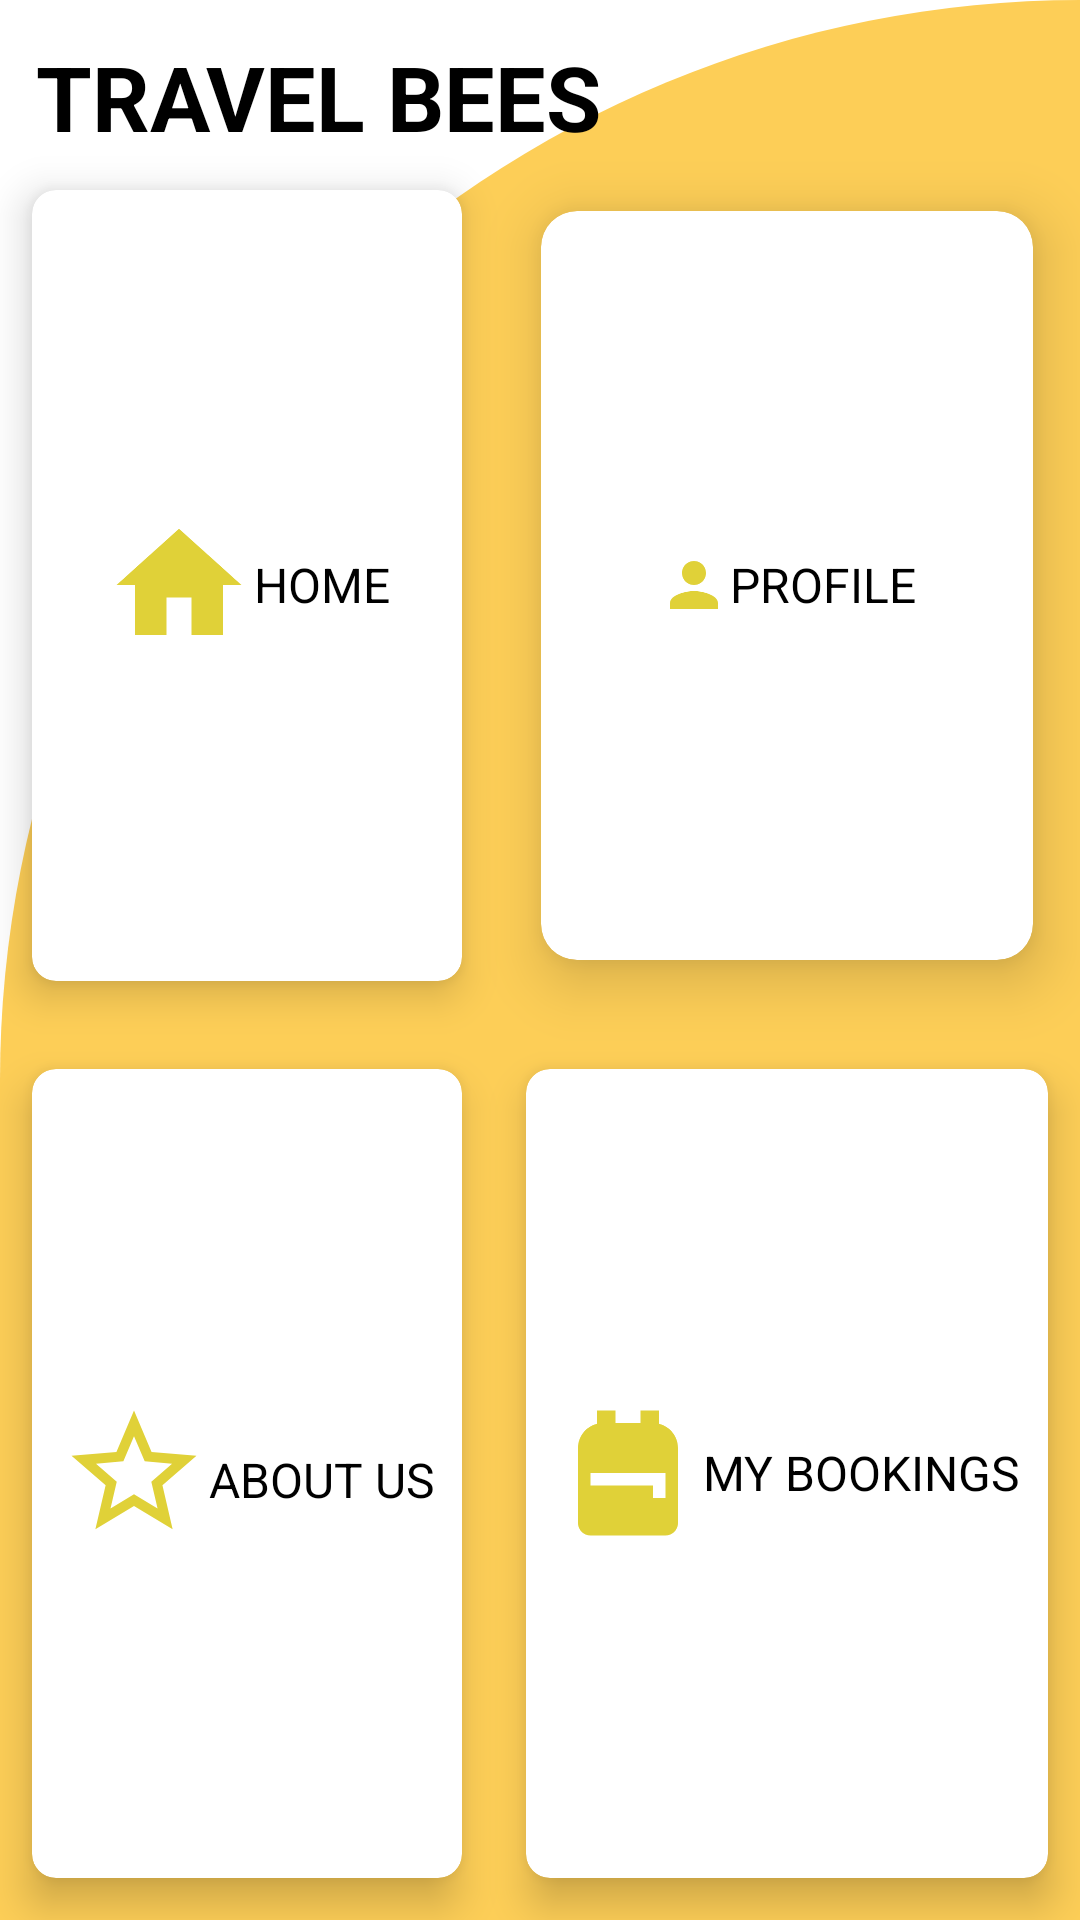

Point at icon controls on the screen. Image size 1080x1920, points as (x=x, y=y).
backpack: (x=628, y=1473)
person: (x=694, y=585)
star border: (x=134, y=1470)
